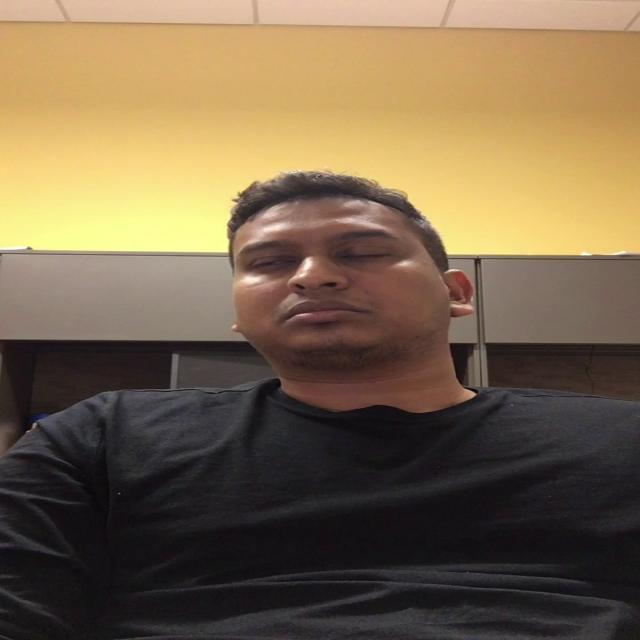close: (332, 226, 401, 272), (234, 235, 300, 278)
